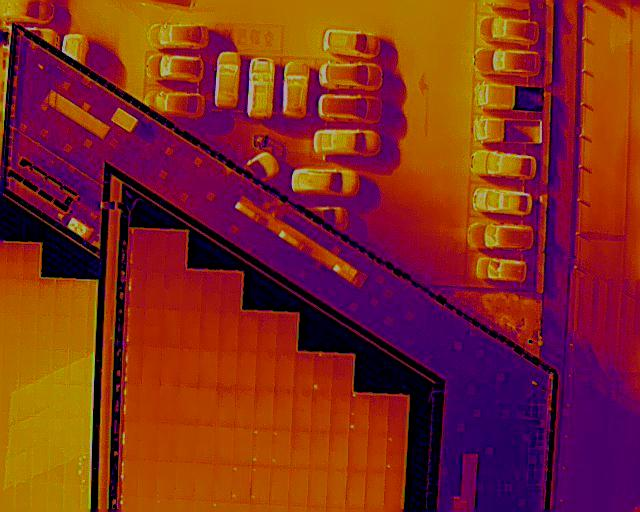Cell-Multi: (250, 428, 272, 466), (250, 466, 272, 504), (312, 354, 333, 391), (349, 395, 370, 431), (386, 432, 405, 470), (272, 430, 292, 466), (232, 464, 250, 502), (65, 455, 83, 485)
No-Anomaly: (141, 346, 163, 387), (238, 311, 259, 352), (310, 392, 332, 431), (200, 310, 221, 350), (257, 313, 278, 353), (219, 312, 240, 352), (201, 272, 222, 312), (138, 421, 158, 462), (165, 268, 185, 309), (234, 389, 255, 428), (365, 470, 386, 509), (275, 353, 297, 390), (330, 391, 350, 431), (273, 390, 293, 430), (178, 386, 198, 426), (215, 388, 236, 426), (292, 390, 311, 432), (161, 349, 182, 387), (146, 269, 165, 311), (199, 350, 220, 388), (197, 387, 218, 425), (146, 231, 167, 269), (270, 467, 291, 505), (181, 310, 201, 349), (254, 389, 274, 428), (308, 467, 328, 506), (346, 469, 366, 508), (139, 386, 161, 421), (331, 356, 353, 391), (164, 233, 186, 268), (196, 426, 216, 464), (232, 428, 252, 466), (277, 314, 297, 352), (368, 431, 387, 471), (289, 467, 309, 505), (384, 470, 404, 508), (157, 425, 178, 461), (256, 353, 277, 389), (309, 431, 330, 467), (164, 309, 183, 348), (160, 386, 179, 425), (196, 463, 215, 502), (214, 427, 234, 464), (222, 274, 242, 311), (327, 470, 347, 507), (183, 271, 201, 312), (349, 432, 368, 470), (176, 462, 195, 500), (177, 426, 197, 462), (237, 352, 257, 388), (127, 307, 146, 344), (294, 353, 313, 390), (35, 347, 54, 384), (145, 309, 164, 346), (330, 431, 349, 468), (53, 347, 71, 386), (220, 352, 240, 387), (369, 396, 389, 431), (19, 347, 37, 385), (182, 349, 200, 387), (139, 460, 158, 496), (158, 461, 176, 498), (214, 464, 232, 501), (388, 397, 407, 432), (291, 431, 310, 466), (131, 230, 148, 269), (6, 243, 24, 279), (22, 279, 40, 314), (72, 313, 89, 349), (23, 244, 40, 279), (70, 349, 86, 386), (5, 347, 21, 384), (55, 314, 72, 348), (56, 281, 73, 315), (39, 280, 56, 314), (73, 281, 90, 314), (5, 313, 21, 348), (22, 314, 38, 348), (6, 279, 22, 313), (39, 313, 54, 348), (63, 484, 80, 512), (49, 454, 64, 484), (31, 484, 47, 512)
Unclassified: (126, 345, 145, 384), (129, 270, 147, 307), (123, 384, 141, 420), (123, 420, 139, 459), (123, 460, 139, 496)
